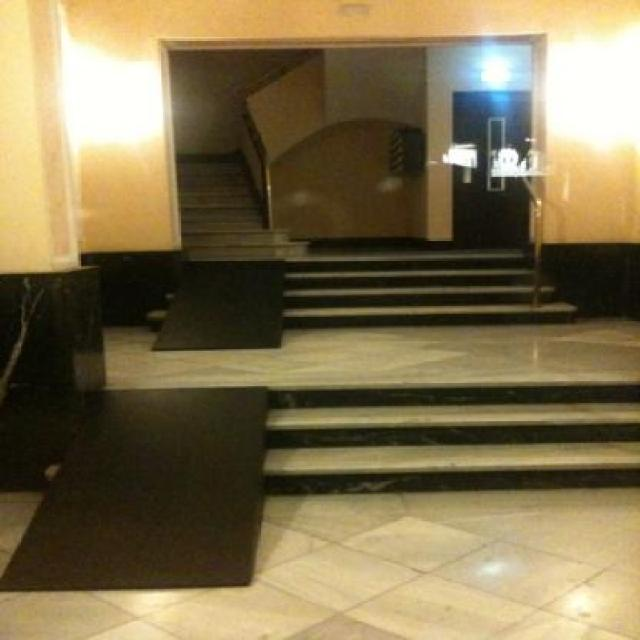stair: (43, 378, 639, 494), (147, 250, 578, 332), (177, 146, 315, 259)
